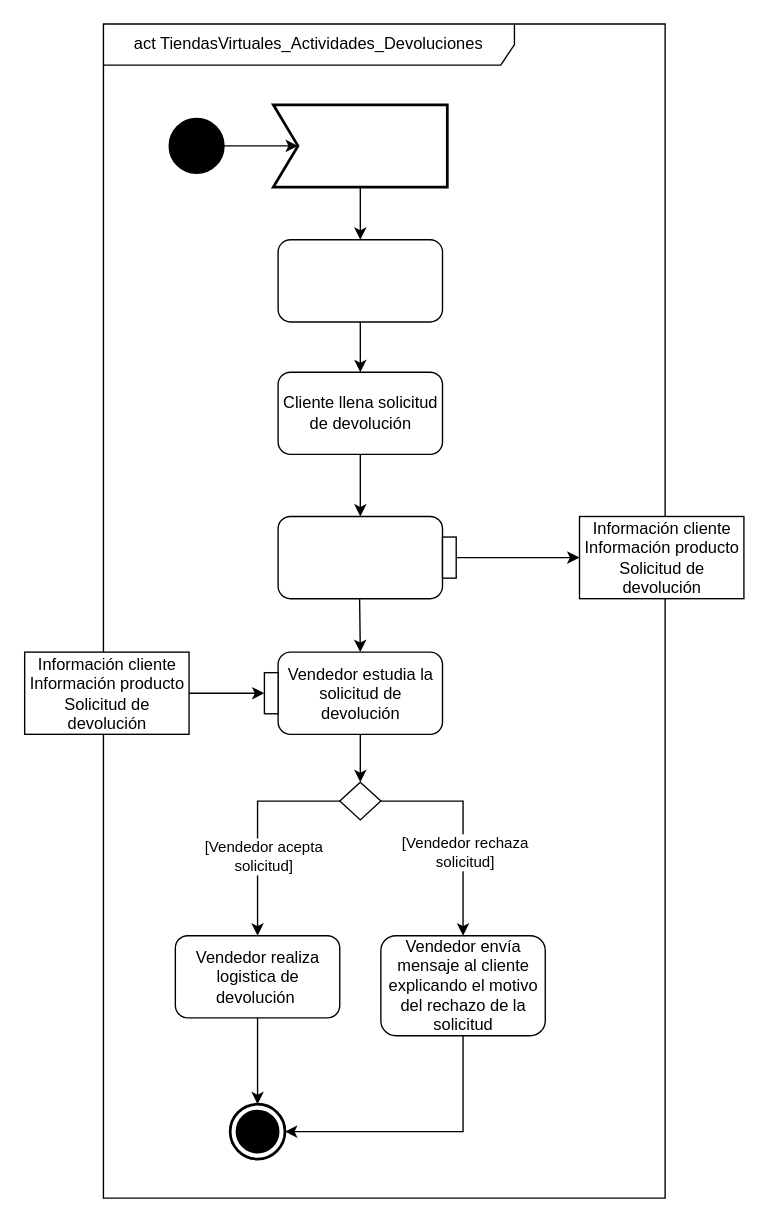
The diagram is 767 pixels wide and 1222 high, and some of its shapes have lost their labels. The centre of each missing label's shape, as x and y in pixels:
Cliente envía una solicitud de devolución: (x=360, y=557)
Cliente selecciona opción de solicitar devolución: (x=360, y=280)
Inicio Devolucion: (x=359, y=145)
